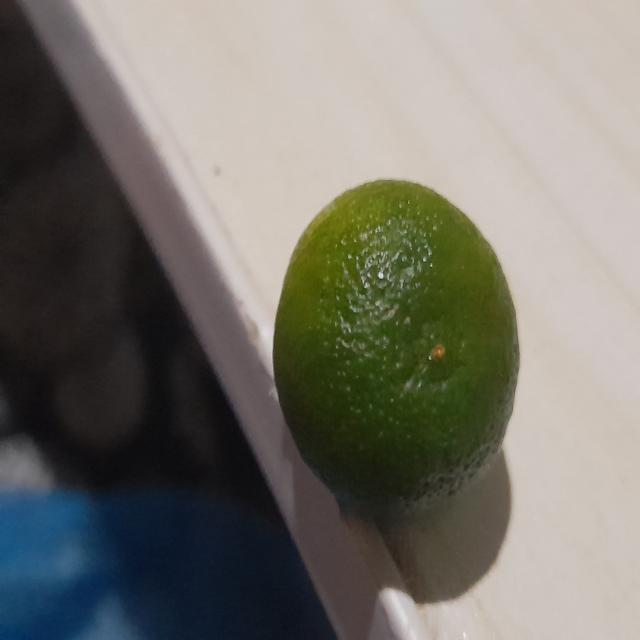heathy: (273, 174, 527, 530)
